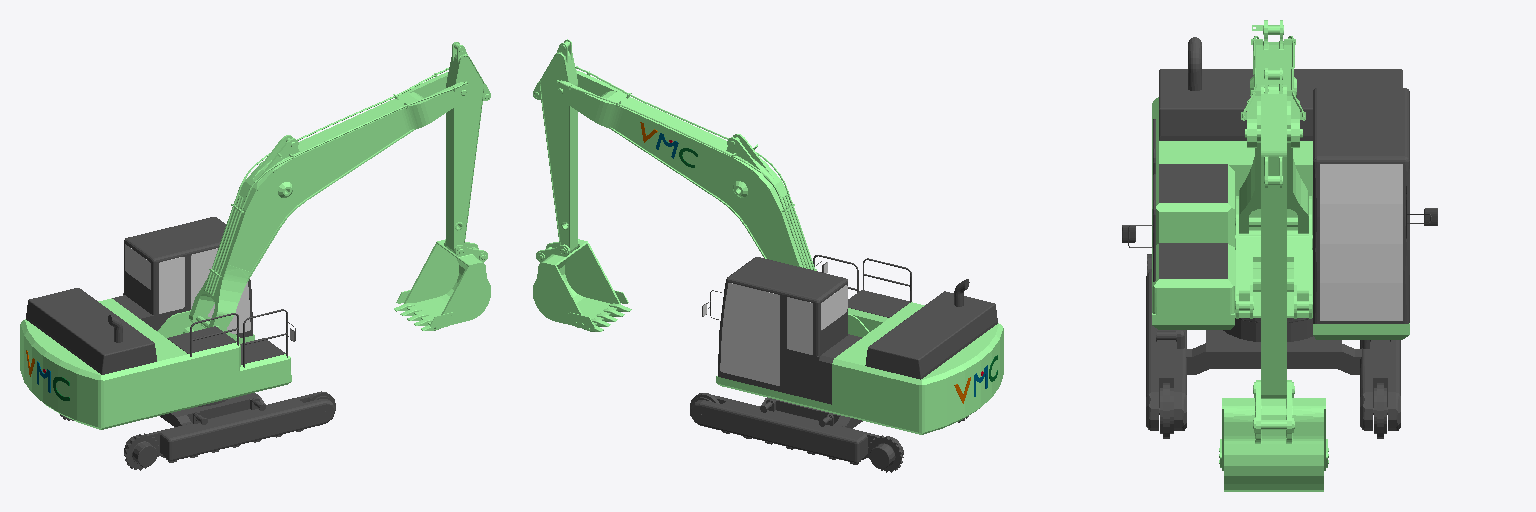
robot.urdf — cet200:
<?xml version="1.0" ?>
<!-- =================================================================================== -->
<!-- |    This document was autogenerated by xacro from cet200.xacro -->
<!-- |    EDITING THIS FILE BY HAND IS NOT RECOMMENDED                                 | -->
<!-- =================================================================================== -->
<robot name="cet200">
  <!-- ================================================================ -->
  <!-- ================================================================ -->
  <!-- Links, Joints -->
  <link name="TF_Origin"/>
  <link name="base_link"/>
  <joint name="Dummy_LockJoint_Origin" type="fixed">
    <parent link="TF_Origin"/>
    <child link="RB_TrackFrame"/>
  </joint>
  <link name="RB_TrackFrame">
    <inertial>
      <mass value="3800"/>
      <origin rpy="0 0 0" xyz="0.05201620740931711 1.0183557399152014e-06 0.5308690686271093"/>
      <inertia ixx="2862.58" ixy="-0.00237404" ixz="2.47481e-05" iyy="2290.29" iyz="34.9716" izz="4857.89"/>
    </inertial>
    <visual>
      <geometry>
        <mesh filename="package://cet200_description/meshes/track_frame.dae"/>
      </geometry>
    </visual>
  </link>
  <!-- Handle base_link as a dummy link. ObserverFrame in AGX -->
  <joint name="Dummy_LockJoint_RB_TrackFrame_base" type="fixed">
    <parent link="RB_TrackFrame"/>
    <child link="base_link"/>
  </joint>
  <joint name="Hinge_Slew" type="continuous">
    <origin rpy="0 0 0" xyz="0 0 1"/>
    <axis xyz="0 0 1"/>
    <parent link="RB_TrackFrame"/>
    <child link="RB_UpperStructure"/>
    <limit effort="70000" velocity="1.256637061"/>
  </joint>
  <link name="RB_UpperStructure">
    <inertial>
      <mass value="7600"/>
      <origin rpy="0 0 0" xyz="-1.9067453625871538 3.5826687072582075e-07 0.5699960477872861"/>
      <inertia ixx="6075.62" ixy="-1585.64" ixz="-1044.18" iyy="9686.21" iyz="-412.978" izz="13711.7"/>
    </inertial>
    <visual>
      <geometry>
        <mesh filename="package://cet200_description/meshes/upper_structure.dae"/>
      </geometry>
    </visual>
  </link>
  <joint name="Hinge_Boom" type="revolute">
    <origin rpy="0 0 0" xyz="0.18 0 0.83"/>
    <axis xyz="0 1 0"/>
    <parent link="RB_UpperStructure"/>
    <child link="RB_Boom"/>
    <limit effort="2009946.205" lower="-0.443" upper="1.127" velocity="0.648409027"/>
  </joint>
  <link name="RB_Boom">
    <inertial>
      <mass value="1440"/>
      <origin rpy="0 0 0" xyz="1.892940763973838 8.147612283200667e-05 2.0891289253932284"/>
      <inertia ixx="956.006" ixy="1259.54" ixz="-0.139389" iyy="2328.5" iyz="0.0825067" izz="2913.61"/>
    </inertial>
    <visual>
      <geometry>
        <mesh filename="package://cet200_description/meshes/boom.dae"/>
      </geometry>
    </visual>
  </link>
  <joint name="Hinge_Arm" type="revolute">
    <origin rpy="0 0 0" xyz="4.71397 0 3.19445"/>
    <axis xyz="0 1 0"/>
    <parent link="RB_Boom"/>
    <child link="RB_Arm"/>
    <limit effort="300268.1523" lower="-1.40" upper="0.648" velocity="0.59757376"/>
  </joint>
  <link name="RB_Arm">
    <inertial>
      <mass value="950"/>
      <origin rpy="0 0 0" xyz="0.12784681679964738 5.671064185895034e-07 -0.9585825418396574"/>
      <inertia ixx="818.209" ixy="-45.9014" ixz="-0.00018497" iyy="24.3643" iyz="-0.00325513" izz="809.144"/>
    </inertial>
    <visual>
      <geometry>
        <mesh filename="package://cet200_description/meshes/arm.dae"/>
      </geometry>
    </visual>
  </link>
  <joint name="Hinge_Bucket" type="revolute">
    <origin rpy="0 0 0" xyz="-0.0006 0 -2.9"/>
    <axis xyz="0 1 0"/>
    <parent link="RB_Arm"/>
    <child link="RB_Bucket"/>
    <limit effort="253122.1717" lower="-1.236" upper="1.77" velocity="0.706018147"/>
  </joint>
  <link name="RB_Bucket">
    <inertial>
      <mass value="700"/>
      <origin rpy="0 0 0" xyz="-0.01426160488025463 -2.7650072185771593e-06 -0.5611512049188314"/>
      <inertia ixx="199.455" ixy="-0.000719484" ixz="58.3155" iyy="187.447" iyz="-0.00111114" izz="165.43"/>
    </inertial>
    <visual>
      <geometry>
        <mesh filename="package://cet200_description/meshes/bucket.dae"/>
      </geometry>
    </visual>
    <collision>
      <geometry>
        <mesh filename="package://cet200_description/meshes/collider_bucket.stl"/>
      </geometry>
    </collision>
  </link>
  <joint name="Hinge_Sprocket_L" type="continuous">
    <origin rpy="0 0 0" xyz="-1.6872 1.1 0.38945"/>
    <axis xyz="0 1 0"/>
    <parent link="RB_TrackFrame"/>
    <child link="RB_Sprocket_L"/>
    <limit effort="38437" velocity="4.074104494"/>
  </joint>
  <link name="RB_Sprocket_L">
    <inertial>
      <mass value="340"/>
      <origin rpy="0 0 0" xyz="0.0009721884578390849 0.06961311938672243 -0.00024814935669242866"/>
      <inertia ixx="10.2047" ixy="-0.459781" ixz="2.23037e-10" iyy="6.83585" iyz="-2.9895e-11" izz="6.77422"/>
    </inertial>
    <visual>
      <origin rpy="0 0 0" xyz="0 0 0"/>
      <geometry>
        <mesh filename="package://cet200_description/meshes/sprocket.dae"/>
      </geometry>
    </visual>
    <collision>
      <origin rpy="1.5708 0 0" xyz="0 0 0"/>
      <geometry>
        <cylinder length="0.05" radius="0.24"/>
      </geometry>
    </collision>
  </link>
  <joint name="Hinge_Idler_L" type="continuous">
    <origin rpy="0 0 0" xyz="1.6872 1.1 0.38945"/>
    <axis xyz="0 1 0"/>
    <parent link="RB_TrackFrame"/>
    <child link="RB_Idler_L"/>
  </joint>
  <link name="RB_Idler_L">
    <inertial>
      <mass value="108"/>
      <origin rpy="0 0 0" xyz="0 0 0"/>
      <inertia ixx="2.34497" ixy="0" ixz="0" iyy="4.27217" iyz="4.22502e-06" izz="2.345"/>
    </inertial>
    <visual>
      <geometry>
        <mesh filename="package://cet200_description/meshes/idler.dae"/>
      </geometry>
    </visual>
    <collision>
      <origin rpy="1.5708 0 0" xyz="0 0 0"/>
      <geometry>
        <cylinder length="0.14" radius="0.24"/>
      </geometry>
    </collision>
  </link>
  <joint name="Hinge_Roller_L1" type="continuous">
    <origin rpy="0 0 0" xyz="0.55 1.1 0.71245"/>
    <axis xyz="0 1 0"/>
    <parent link="RB_TrackFrame"/>
    <child link="RB_Roller_L1"/>
  </joint>
  <link name="RB_Roller_L1">
    <inertial>
      <mass value="35"/>
      <origin rpy="0 0 0" xyz="0 0 0"/>
      <inertia ixx="0.181184" ixy="4.37227e-07" ixz="3.54717e-07" iyy="0.1057" iyz="0.0612396" izz="0.131501"/>
    </inertial>
    <visual>
      <geometry>
        <mesh filename="package://cet200_description/meshes/roller.dae"/>
      </geometry>
    </visual>
    <collision>
      <origin rpy="1.5708 0 0" xyz="0 0 0"/>
      <geometry>
        <cylinder length="0.2144" radius="0.048"/>
      </geometry>
    </collision>
  </link>
  <joint name="Hinge_Roller_L2" type="continuous">
    <origin rpy="0 0 0" xyz="-0.55 1.1 0.71245"/>
    <axis xyz="0 1 0"/>
    <parent link="RB_TrackFrame"/>
    <child link="RB_Roller_L2"/>
  </joint>
  <link name="RB_Roller_L2">
    <inertial>
      <mass value="35"/>
      <origin rpy="0 0 0" xyz="0 0 0"/>
      <inertia ixx="0.181184" ixy="4.37227e-07" ixz="3.54717e-07" iyy="0.1057" iyz="0.0612396" izz="0.131501"/>
    </inertial>
    <visual>
      <geometry>
        <mesh filename="package://cet200_description/meshes/roller.dae"/>
      </geometry>
    </visual>
    <collision>
      <origin rpy="1.5708 0 0" xyz="0 0 0"/>
      <geometry>
        <cylinder length="0.2144" radius="0.048"/>
      </geometry>
    </collision>
  </link>
  <joint name="Hinge_Roller_L3" type="continuous">
    <origin rpy="0 0 0" xyz="1.225 1.1 0.18295"/>
    <axis xyz="0 1 0"/>
    <parent link="RB_TrackFrame"/>
    <child link="RB_Roller_L3"/>
  </joint>
  <link name="RB_Roller_L3">
    <inertial>
      <mass value="35"/>
      <origin rpy="0 0 0" xyz="0 0 0"/>
      <inertia ixx="0.181184" ixy="4.37227e-07" ixz="3.54717e-07" iyy="0.1057" iyz="0.0612396" izz="0.131501"/>
    </inertial>
    <visual>
      <geometry>
        <mesh filename="package://cet200_description/meshes/roller.dae"/>
      </geometry>
    </visual>
    <collision>
      <origin rpy="1.5708 0 0" xyz="0 0 0"/>
      <geometry>
        <cylinder length="0.2144" radius="0.048"/>
      </geometry>
    </collision>
  </link>
  <joint name="Hinge_Roller_L4" type="continuous">
    <origin rpy="0 0 0" xyz="0.825 1.1 0.18295"/>
    <axis xyz="0 1 0"/>
    <parent link="RB_TrackFrame"/>
    <child link="RB_Roller_L4"/>
  </joint>
  <link name="RB_Roller_L4">
    <inertial>
      <mass value="35"/>
      <origin rpy="0 0 0" xyz="0 0 0"/>
      <inertia ixx="0.181184" ixy="4.37227e-07" ixz="3.54717e-07" iyy="0.1057" iyz="0.0612396" izz="0.131501"/>
    </inertial>
    <visual>
      <geometry>
        <mesh filename="package://cet200_description/meshes/roller.dae"/>
      </geometry>
    </visual>
    <collision>
      <origin rpy="1.5708 0 0" xyz="0 0 0"/>
      <geometry>
        <cylinder length="0.2144" radius="0.048"/>
      </geometry>
    </collision>
  </link>
  <joint name="Hinge_Roller_L5" type="continuous">
    <origin rpy="0 0 0" xyz="0.425 1.1 0.18295"/>
    <axis xyz="0 1 0"/>
    <parent link="RB_TrackFrame"/>
    <child link="RB_Roller_L5"/>
  </joint>
  <link name="RB_Roller_L5">
    <inertial>
      <mass value="35"/>
      <origin rpy="0 0 0" xyz="0 0 0"/>
      <inertia ixx="0.181184" ixy="4.37227e-07" ixz="3.54717e-07" iyy="0.1057" iyz="0.0612396" izz="0.131501"/>
    </inertial>
    <visual>
      <geometry>
        <mesh filename="package://cet200_description/meshes/roller.dae"/>
      </geometry>
    </visual>
    <collision>
      <origin rpy="1.5708 0 0" xyz="0 0 0"/>
      <geometry>
        <cylinder length="0.2144" radius="0.048"/>
      </geometry>
    </collision>
  </link>
  <joint name="Hinge_Roller_L6" type="continuous">
    <origin rpy="0 0 0" xyz="0.025 1.1 0.18295"/>
    <axis xyz="0 1 0"/>
    <parent link="RB_TrackFrame"/>
    <child link="RB_Roller_L6"/>
  </joint>
  <link name="RB_Roller_L6">
    <inertial>
      <mass value="35"/>
      <origin rpy="0 0 0" xyz="0 0 0"/>
      <inertia ixx="0.181184" ixy="4.37227e-07" ixz="3.54717e-07" iyy="0.1057" iyz="0.0612396" izz="0.131501"/>
    </inertial>
    <visual>
      <geometry>
        <mesh filename="package://cet200_description/meshes/roller.dae"/>
      </geometry>
    </visual>
    <collision>
      <origin rpy="1.5708 0 0" xyz="0 0 0"/>
      <geometry>
        <cylinder length="0.2144" radius="0.048"/>
      </geometry>
    </collision>
  </link>
  <joint name="Hinge_Roller_L7" type="continuous">
    <origin rpy="0 0 0" xyz="-0.375 1.1 0.18295"/>
    <axis xyz="0 1 0"/>
    <parent link="RB_TrackFrame"/>
    <child link="RB_Roller_L7"/>
  </joint>
  <link name="RB_Roller_L7">
    <inertial>
      <mass value="35"/>
      <origin rpy="0 0 0" xyz="0 0 0"/>
      <inertia ixx="0.181184" ixy="4.37227e-07" ixz="3.54717e-07" iyy="0.1057" iyz="0.0612396" izz="0.131501"/>
    </inertial>
    <visual>
      <geometry>
        <mesh filename="package://cet200_description/meshes/roller.dae"/>
      </geometry>
    </visual>
    <collision>
      <origin rpy="1.5708 0 0" xyz="0 0 0"/>
      <geometry>
        <cylinder length="0.2144" radius="0.048"/>
      </geometry>
    </collision>
  </link>
  <joint name="Hinge_Roller_L8" type="continuous">
    <origin rpy="0 0 0" xyz="-0.775 1.1 0.18295"/>
    <axis xyz="0 1 0"/>
    <parent link="RB_TrackFrame"/>
    <child link="RB_Roller_L8"/>
  </joint>
  <link name="RB_Roller_L8">
    <inertial>
      <mass value="35"/>
      <origin rpy="0 0 0" xyz="0 0 0"/>
      <inertia ixx="0.181184" ixy="4.37227e-07" ixz="3.54717e-07" iyy="0.1057" iyz="0.0612396" izz="0.131501"/>
    </inertial>
    <visual>
      <geometry>
        <mesh filename="package://cet200_description/meshes/roller.dae"/>
      </geometry>
    </visual>
    <collision>
      <origin rpy="1.5708 0 0" xyz="0 0 0"/>
      <geometry>
        <cylinder length="0.2144" radius="0.048"/>
      </geometry>
    </collision>
  </link>
  <joint name="Hinge_Roller_L9" type="continuous">
    <origin rpy="0 0 0" xyz="-1.175 1.1 0.18295"/>
    <axis xyz="0 1 0"/>
    <parent link="RB_TrackFrame"/>
    <child link="RB_Roller_L9"/>
  </joint>
  <link name="RB_Roller_L9">
    <inertial>
      <mass value="35"/>
      <origin rpy="0 0 0" xyz="0 0 0"/>
      <inertia ixx="0.181184" ixy="4.37227e-07" ixz="3.54717e-07" iyy="0.1057" iyz="0.0612396" izz="0.131501"/>
    </inertial>
    <visual>
      <geometry>
        <mesh filename="package://cet200_description/meshes/roller.dae"/>
      </geometry>
    </visual>
    <collision>
      <origin rpy="1.5708 0 0" xyz="0 0 0"/>
      <geometry>
        <cylinder length="0.2144" radius="0.048"/>
      </geometry>
    </collision>
  </link>
  <joint name="Hinge_Sprocket_R" type="continuous">
    <origin rpy="0 0 0" xyz="-1.6872 -1.1 0.38945"/>
    <axis xyz="0 1 0"/>
    <parent link="RB_TrackFrame"/>
    <child link="RB_Sprocket_R"/>
    <limit effort="38437" velocity="4.074104494"/>
  </joint>
  <link name="RB_Sprocket_R">
    <inertial>
      <mass value="340"/>
      <origin rpy="0 0 0" xyz="0.0009721884578390849 0.06961311938672243 -0.00024814935669242866"/>
      <inertia ixx="10.2047" ixy="-0.459781" ixz="2.23037e-10" iyy="6.83585" iyz="-2.9895e-11" izz="6.77422"/>
    </inertial>
    <visual>
      <origin rpy="3.141592653589793 0.0305 0" xyz="0 0 0"/>
      <geometry>
        <mesh filename="package://cet200_description/meshes/sprocket.dae"/>
      </geometry>
    </visual>
    <collision>
      <origin rpy="1.5708 0 0" xyz="0 0 0"/>
      <geometry>
        <cylinder length="0.05" radius="0.24"/>
      </geometry>
    </collision>
  </link>
  <joint name="Hinge_Idler_R" type="continuous">
    <origin rpy="0 0 0" xyz="1.6872 -1.1 0.38945"/>
    <axis xyz="0 1 0"/>
    <parent link="RB_TrackFrame"/>
    <child link="RB_Idler_R"/>
  </joint>
  <link name="RB_Idler_R">
    <inertial>
      <mass value="108"/>
      <origin rpy="0 0 0" xyz="0 0 0"/>
      <inertia ixx="2.34497" ixy="0" ixz="0" iyy="4.27217" iyz="4.22502e-06" izz="2.345"/>
    </inertial>
    <visual>
      <geometry>
        <mesh filename="package://cet200_description/meshes/idler.dae"/>
      </geometry>
    </visual>
    <collision>
      <origin rpy="1.5708 0 0" xyz="0 0 0"/>
      <geometry>
        <cylinder length="0.14" radius="0.24"/>
      </geometry>
    </collision>
  </link>
  <joint name="Hinge_Roller_R1" type="continuous">
    <origin rpy="0 0 0" xyz="0.55 -1.1 0.71245"/>
    <axis xyz="0 1 0"/>
    <parent link="RB_TrackFrame"/>
    <child link="RB_Roller_R1"/>
  </joint>
  <link name="RB_Roller_R1">
    <inertial>
      <mass value="35"/>
      <origin rpy="0 0 0" xyz="0 0 0"/>
      <inertia ixx="0.181184" ixy="4.37227e-07" ixz="3.54717e-07" iyy="0.1057" iyz="0.0612396" izz="0.131501"/>
    </inertial>
    <visual>
      <geometry>
        <mesh filename="package://cet200_description/meshes/roller.dae"/>
      </geometry>
    </visual>
    <collision>
      <origin rpy="1.5708 0 0" xyz="0 0 0"/>
      <geometry>
        <cylinder length="0.2144" radius="0.048"/>
      </geometry>
    </collision>
  </link>
  <joint name="Hinge_Roller_R2" type="continuous">
    <origin rpy="0 0 0" xyz="-0.55 -1.1 0.71245"/>
    <axis xyz="0 1 0"/>
    <parent link="RB_TrackFrame"/>
    <child link="RB_Roller_R2"/>
  </joint>
  <link name="RB_Roller_R2">
    <inertial>
      <mass value="35"/>
      <origin rpy="0 0 0" xyz="0 0 0"/>
      <inertia ixx="0.181184" ixy="4.37227e-07" ixz="3.54717e-07" iyy="0.1057" iyz="0.0612396" izz="0.131501"/>
    </inertial>
    <visual>
      <geometry>
        <mesh filename="package://cet200_description/meshes/roller.dae"/>
      </geometry>
    </visual>
    <collision>
      <origin rpy="1.5708 0 0" xyz="0 0 0"/>
      <geometry>
        <cylinder length="0.2144" radius="0.048"/>
      </geometry>
    </collision>
  </link>
  <joint name="Hinge_Roller_R3" type="continuous">
    <origin rpy="0 0 0" xyz="1.225 -1.1 0.18295"/>
    <axis xyz="0 1 0"/>
    <parent link="RB_TrackFrame"/>
    <child link="RB_Roller_R3"/>
  </joint>
  <link name="RB_Roller_R3">
    <inertial>
      <mass value="35"/>
      <origin rpy="0 0 0" xyz="0 0 0"/>
      <inertia ixx="0.181184" ixy="4.37227e-07" ixz="3.54717e-07" iyy="0.1057" iyz="0.0612396" izz="0.131501"/>
    </inertial>
    <visual>
      <geometry>
        <mesh filename="package://cet200_description/meshes/roller.dae"/>
      </geometry>
    </visual>
    <collision>
      <origin rpy="1.5708 0 0" xyz="0 0 0"/>
      <geometry>
        <cylinder length="0.2144" radius="0.048"/>
      </geometry>
    </collision>
  </link>
  <joint name="Hinge_Roller_R4" type="continuous">
    <origin rpy="0 0 0" xyz="0.825 -1.1 0.18295"/>
    <axis xyz="0 1 0"/>
    <parent link="RB_TrackFrame"/>
    <child link="RB_Roller_R4"/>
  </joint>
  <link name="RB_Roller_R4">
    <inertial>
      <mass value="35"/>
      <origin rpy="0 0 0" xyz="0 0 0"/>
      <inertia ixx="0.181184" ixy="4.37227e-07" ixz="3.54717e-07" iyy="0.1057" iyz="0.0612396" izz="0.131501"/>
    </inertial>
    <visual>
      <geometry>
        <mesh filename="package://cet200_description/meshes/roller.dae"/>
      </geometry>
    </visual>
    <collision>
      <origin rpy="1.5708 0 0" xyz="0 0 0"/>
      <geometry>
        <cylinder length="0.2144" radius="0.048"/>
      </geometry>
    </collision>
  </link>
  <joint name="Hinge_Roller_R5" type="continuous">
    <origin rpy="0 0 0" xyz="0.425 -1.1 0.18295"/>
    <axis xyz="0 1 0"/>
    <parent link="RB_TrackFrame"/>
    <child link="RB_Roller_R5"/>
  </joint>
  <link name="RB_Roller_R5">
    <inertial>
      <mass value="35"/>
      <origin rpy="0 0 0" xyz="0 0 0"/>
      <inertia ixx="0.181184" ixy="4.37227e-07" ixz="3.54717e-07" iyy="0.1057" iyz="0.0612396" izz="0.131501"/>
    </inertial>
    <visual>
      <geometry>
        <mesh filename="package://cet200_description/meshes/roller.dae"/>
      </geometry>
    </visual>
    <collision>
      <origin rpy="1.5708 0 0" xyz="0 0 0"/>
      <geometry>
        <cylinder length="0.2144" radius="0.048"/>
      </geometry>
    </collision>
  </link>
  <joint name="Hinge_Roller_R6" type="continuous">
    <origin rpy="0 0 0" xyz="0.025 -1.1 0.18295"/>
    <axis xyz="0 1 0"/>
    <parent link="RB_TrackFrame"/>
    <child link="RB_Roller_R6"/>
  </joint>
  <link name="RB_Roller_R6">
    <inertial>
      <mass value="35"/>
      <origin rpy="0 0 0" xyz="0 0 0"/>
      <inertia ixx="0.181184" ixy="4.37227e-07" ixz="3.54717e-07" iyy="0.1057" iyz="0.0612396" izz="0.131501"/>
    </inertial>
    <visual>
      <geometry>
        <mesh filename="package://cet200_description/meshes/roller.dae"/>
      </geometry>
    </visual>
    <collision>
      <origin rpy="1.5708 0 0" xyz="0 0 0"/>
      <geometry>
        <cylinder length="0.2144" radius="0.048"/>
      </geometry>
    </collision>
  </link>
  <joint name="Hinge_Roller_R7" type="continuous">
    <origin rpy="0 0 0" xyz="-0.375 -1.1 0.18295"/>
    <axis xyz="0 1 0"/>
    <parent link="RB_TrackFrame"/>
    <child link="RB_Roller_R7"/>
  </joint>
  <link name="RB_Roller_R7">
    <inertial>
      <mass value="35"/>
      <origin rpy="0 0 0" xyz="0 0 0"/>
      <inertia ixx="0.181184" ixy="4.37227e-07" ixz="3.54717e-07" iyy="0.1057" iyz="0.0612396" izz="0.131501"/>
    </inertial>
    <visual>
      <geometry>
        <mesh filename="package://cet200_description/meshes/roller.dae"/>
      </geometry>
    </visual>
    <collision>
      <origin rpy="1.5708 0 0" xyz="0 0 0"/>
      <geometry>
        <cylinder length="0.2144" radius="0.048"/>
      </geometry>
    </collision>
  </link>
  <joint name="Hinge_Roller_R8" type="continuous">
    <origin rpy="0 0 0" xyz="-0.775 -1.1 0.18295"/>
    <axis xyz="0 1 0"/>
    <parent link="RB_TrackFrame"/>
    <child link="RB_Roller_R8"/>
  </joint>
  <link name="RB_Roller_R8">
    <inertial>
      <mass value="35"/>
      <origin rpy="0 0 0" xyz="0 0 0"/>
      <inertia ixx="0.181184" ixy="4.37227e-07" ixz="3.54717e-07" iyy="0.1057" iyz="0.0612396" izz="0.131501"/>
    </inertial>
    <visual>
      <geometry>
        <mesh filename="package://cet200_description/meshes/roller.dae"/>
      </geometry>
    </visual>
    <collision>
      <origin rpy="1.5708 0 0" xyz="0 0 0"/>
      <geometry>
        <cylinder length="0.2144" radius="0.048"/>
      </geometry>
    </collision>
  </link>
  <joint name="Hinge_Roller_R9" type="continuous">
    <origin rpy="0 0 0" xyz="-1.175 -1.1 0.18295"/>
    <axis xyz="0 1 0"/>
    <parent link="RB_TrackFrame"/>
    <child link="RB_Roller_R9"/>
  </joint>
  <link name="RB_Roller_R9">
    <inertial>
      <mass value="35"/>
      <origin rpy="0 0 0" xyz="0 0 0"/>
      <inertia ixx="0.181184" ixy="4.37227e-07" ixz="3.54717e-07" iyy="0.1057" iyz="0.0612396" izz="0.131501"/>
    </inertial>
    <visual>
      <geometry>
        <mesh filename="package://cet200_description/meshes/roller.dae"/>
      </geometry>
    </visual>
    <collision>
      <origin rpy="1.5708 0 0" xyz="0 0 0"/>
      <geometry>
        <cylinder length="0.2144" radius="0.048"/>
      </geometry>
    </collision>
  </link>
  <joint name="Dummy_LockJoint_CrawlerBelt_L" type="fixed">
    <origin rpy="0 0 0" xyz="1.6872 1.09461 0.38945"/>
    <parent link="RB_TrackFrame"/>
    <child link="Dummy_RB_CrawlerBelt_L"/>
  </joint>
  <link name="Dummy_RB_CrawlerBelt_L">
    <visual>
      <geometry>
        <mesh filename="package://cet200_description/meshes/crawler_belt.dae"/>
      </geometry>
    </visual>
  </link>
  <joint name="Dummy_LockJoint_CrawlerBelt_R" type="fixed">
    <origin rpy="0 0 0" xyz="1.6872 -1.09461 0.38945"/>
    <parent link="RB_TrackFrame"/>
    <child link="Dummy_RB_CrawlerBelt_R"/>
  </joint>
  <link name="Dummy_RB_CrawlerBelt_R">
    <visual>
      <geometry>
        <mesh filename="package://cet200_description/meshes/crawler_belt.dae"/>
      </geometry>
    </visual>
  </link>
  <!-- Attachments -->
  <!-- TF_LidarBase -->
  <joint name="Dummy_LockJoint_RB_UpperStructure_RB_LidarBase" type="fixed">
    <parent link="RB_UpperStructure"/>
    <child link="TF_LidarBase"/>
    <origin rpy="0 0.7853981633974483 0" xyz="1.17928 0.9 2.10413"/>
    <axis xyz="0 1 0"/>
  </joint>
  <link name="TF_LidarBase"/>
</robot>

--- Render facts (derived) ---
3 views of the same robot in one strip: view 1: azimuth 30°, elevation 25°; view 2: azimuth 150°, elevation 25°; view 3: azimuth 270°, elevation 25° (orthographic).
Robot: cet200 — 32 links, 31 joints (3 revolute, 23 continuous, 5 fixed); root link TF_Origin; default pose: all joints at 0.
Visible links, largest first — view 1: RB_UpperStructure, RB_Boom, RB_TrackFrame, RB_Bucket, RB_Arm, RB_Sprocket_R; view 2: RB_UpperStructure, RB_Boom, RB_TrackFrame, RB_Bucket, RB_Arm, RB_Sprocket_L; view 3: RB_UpperStructure, RB_TrackFrame, RB_Bucket, RB_Arm, RB_Boom, RB_Idler_R, RB_Idler_L.
Link boxes in pixels (bbox=[...]): RB_UpperStructure: bbox=[20, 217, 295, 429]; RB_Boom: bbox=[189, 68, 470, 328]; RB_TrackFrame: bbox=[124, 393, 335, 462]; RB_Bucket: bbox=[394, 239, 490, 330]; RB_Arm: bbox=[446, 42, 490, 252]; RB_Sprocket_R: bbox=[124, 433, 158, 470]; RB_UpperStructure: bbox=[702, 255, 1003, 434]; RB_Boom: bbox=[553, 66, 816, 270]; RB_TrackFrame: bbox=[690, 395, 903, 464]; RB_Bucket: bbox=[533, 239, 631, 331]; RB_Arm: bbox=[533, 39, 577, 252]; RB_Sprocket_L: bbox=[868, 435, 903, 472]; RB_UpperStructure: bbox=[1122, 37, 1437, 339]; RB_TrackFrame: bbox=[1146, 272, 1400, 430]; RB_Bucket: bbox=[1219, 380, 1328, 491]; RB_Arm: bbox=[1261, 68, 1286, 398]; RB_Boom: bbox=[1239, 20, 1308, 233]; RB_Idler_R: bbox=[1159, 383, 1173, 438]; RB_Idler_L: bbox=[1373, 383, 1387, 438].
Bounding box of the posed robot: 8.42 × 3.25 × 5.73 m (x, y, z).
Meshes: 9 distinct files referenced, 27 mesh visuals loaded (8 Collada DAE); not drawn: 2 (reference not matched to a file when rendering).
